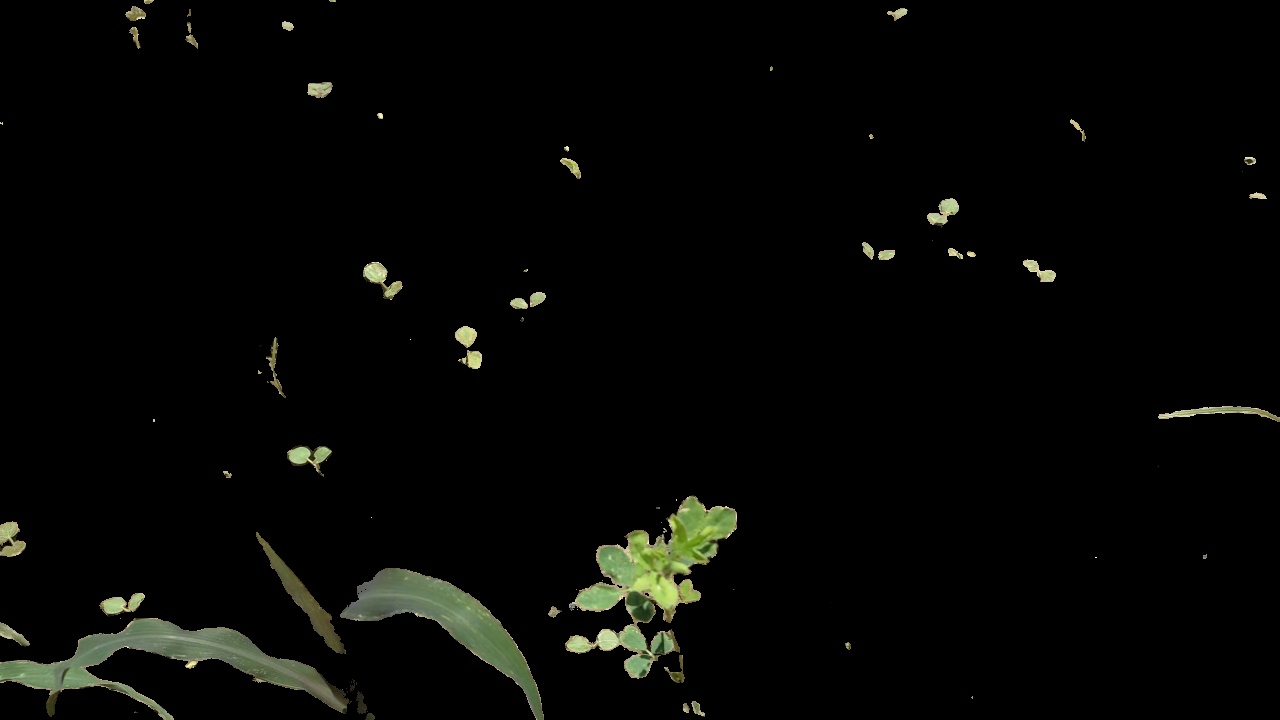crop: (45, 548, 546, 720)
weed: (551, 496, 750, 720), (241, 332, 295, 398), (356, 260, 421, 308), (277, 445, 345, 477), (449, 323, 483, 376), (855, 232, 904, 268), (504, 277, 558, 309), (924, 187, 964, 230), (1024, 257, 1065, 294), (97, 582, 144, 613), (304, 72, 341, 105)
